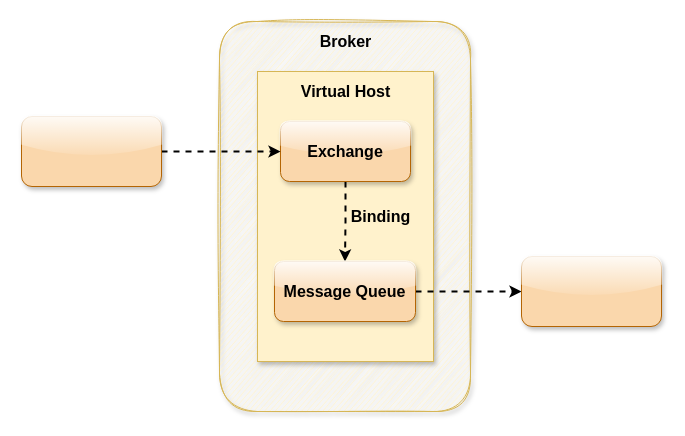
Some shapes in this 685 by 436 pixel diagram are drawn without their labels. Each missing label, with the centre of its shape:
"Consumer Application(s)" goes at pixel 592 293.
"Publisher Application(s)" goes at pixel 92 153.
